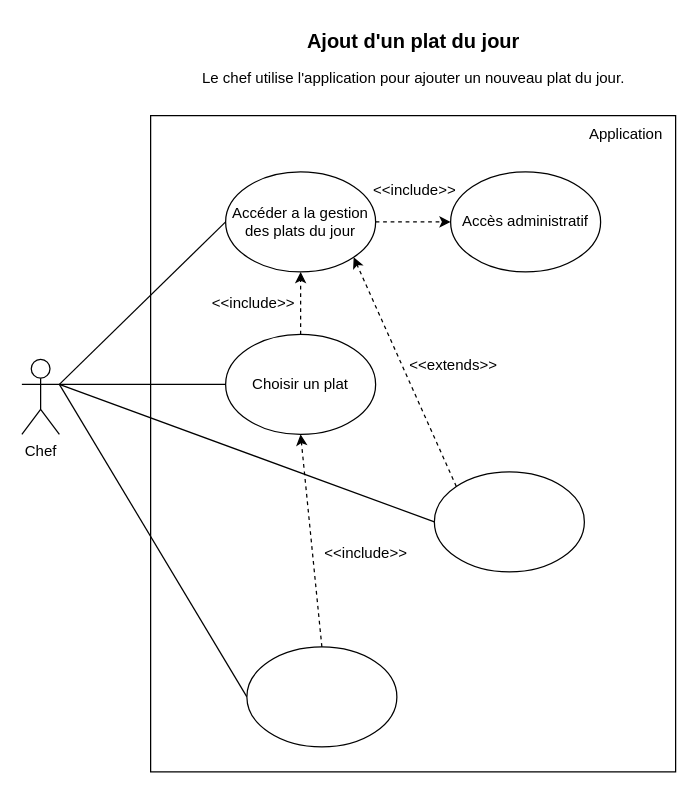
Image size: 698x794. Some labels were removed from this diagram. Here are the shapes that lost their labels. From the top down, the centre of each, then its label:
the point at 508,521: Créer un nouveau plat
the point at 321,696: enregistre le plat en tant que plat du jour
